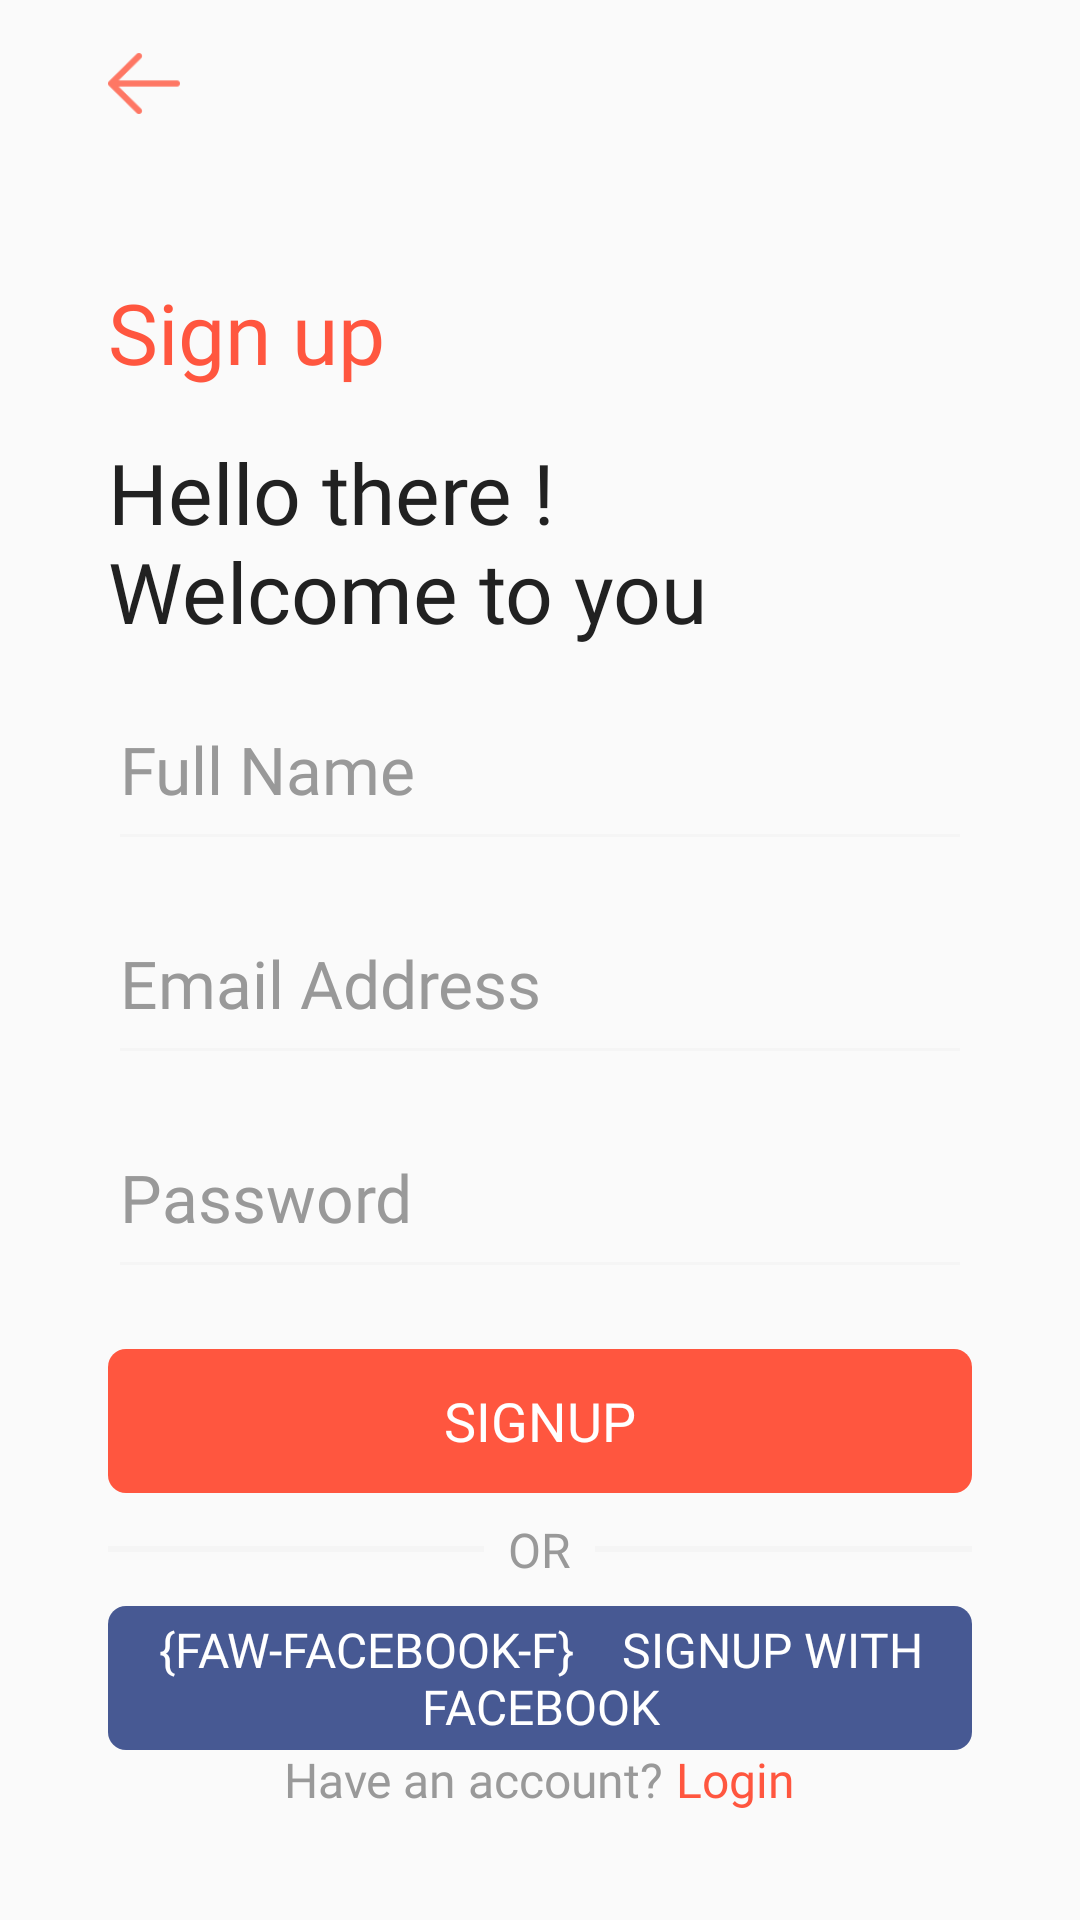

Icons on this 1080×1920 Android screen, each with the point to tap as point (x, y):
back: point (144, 83)
